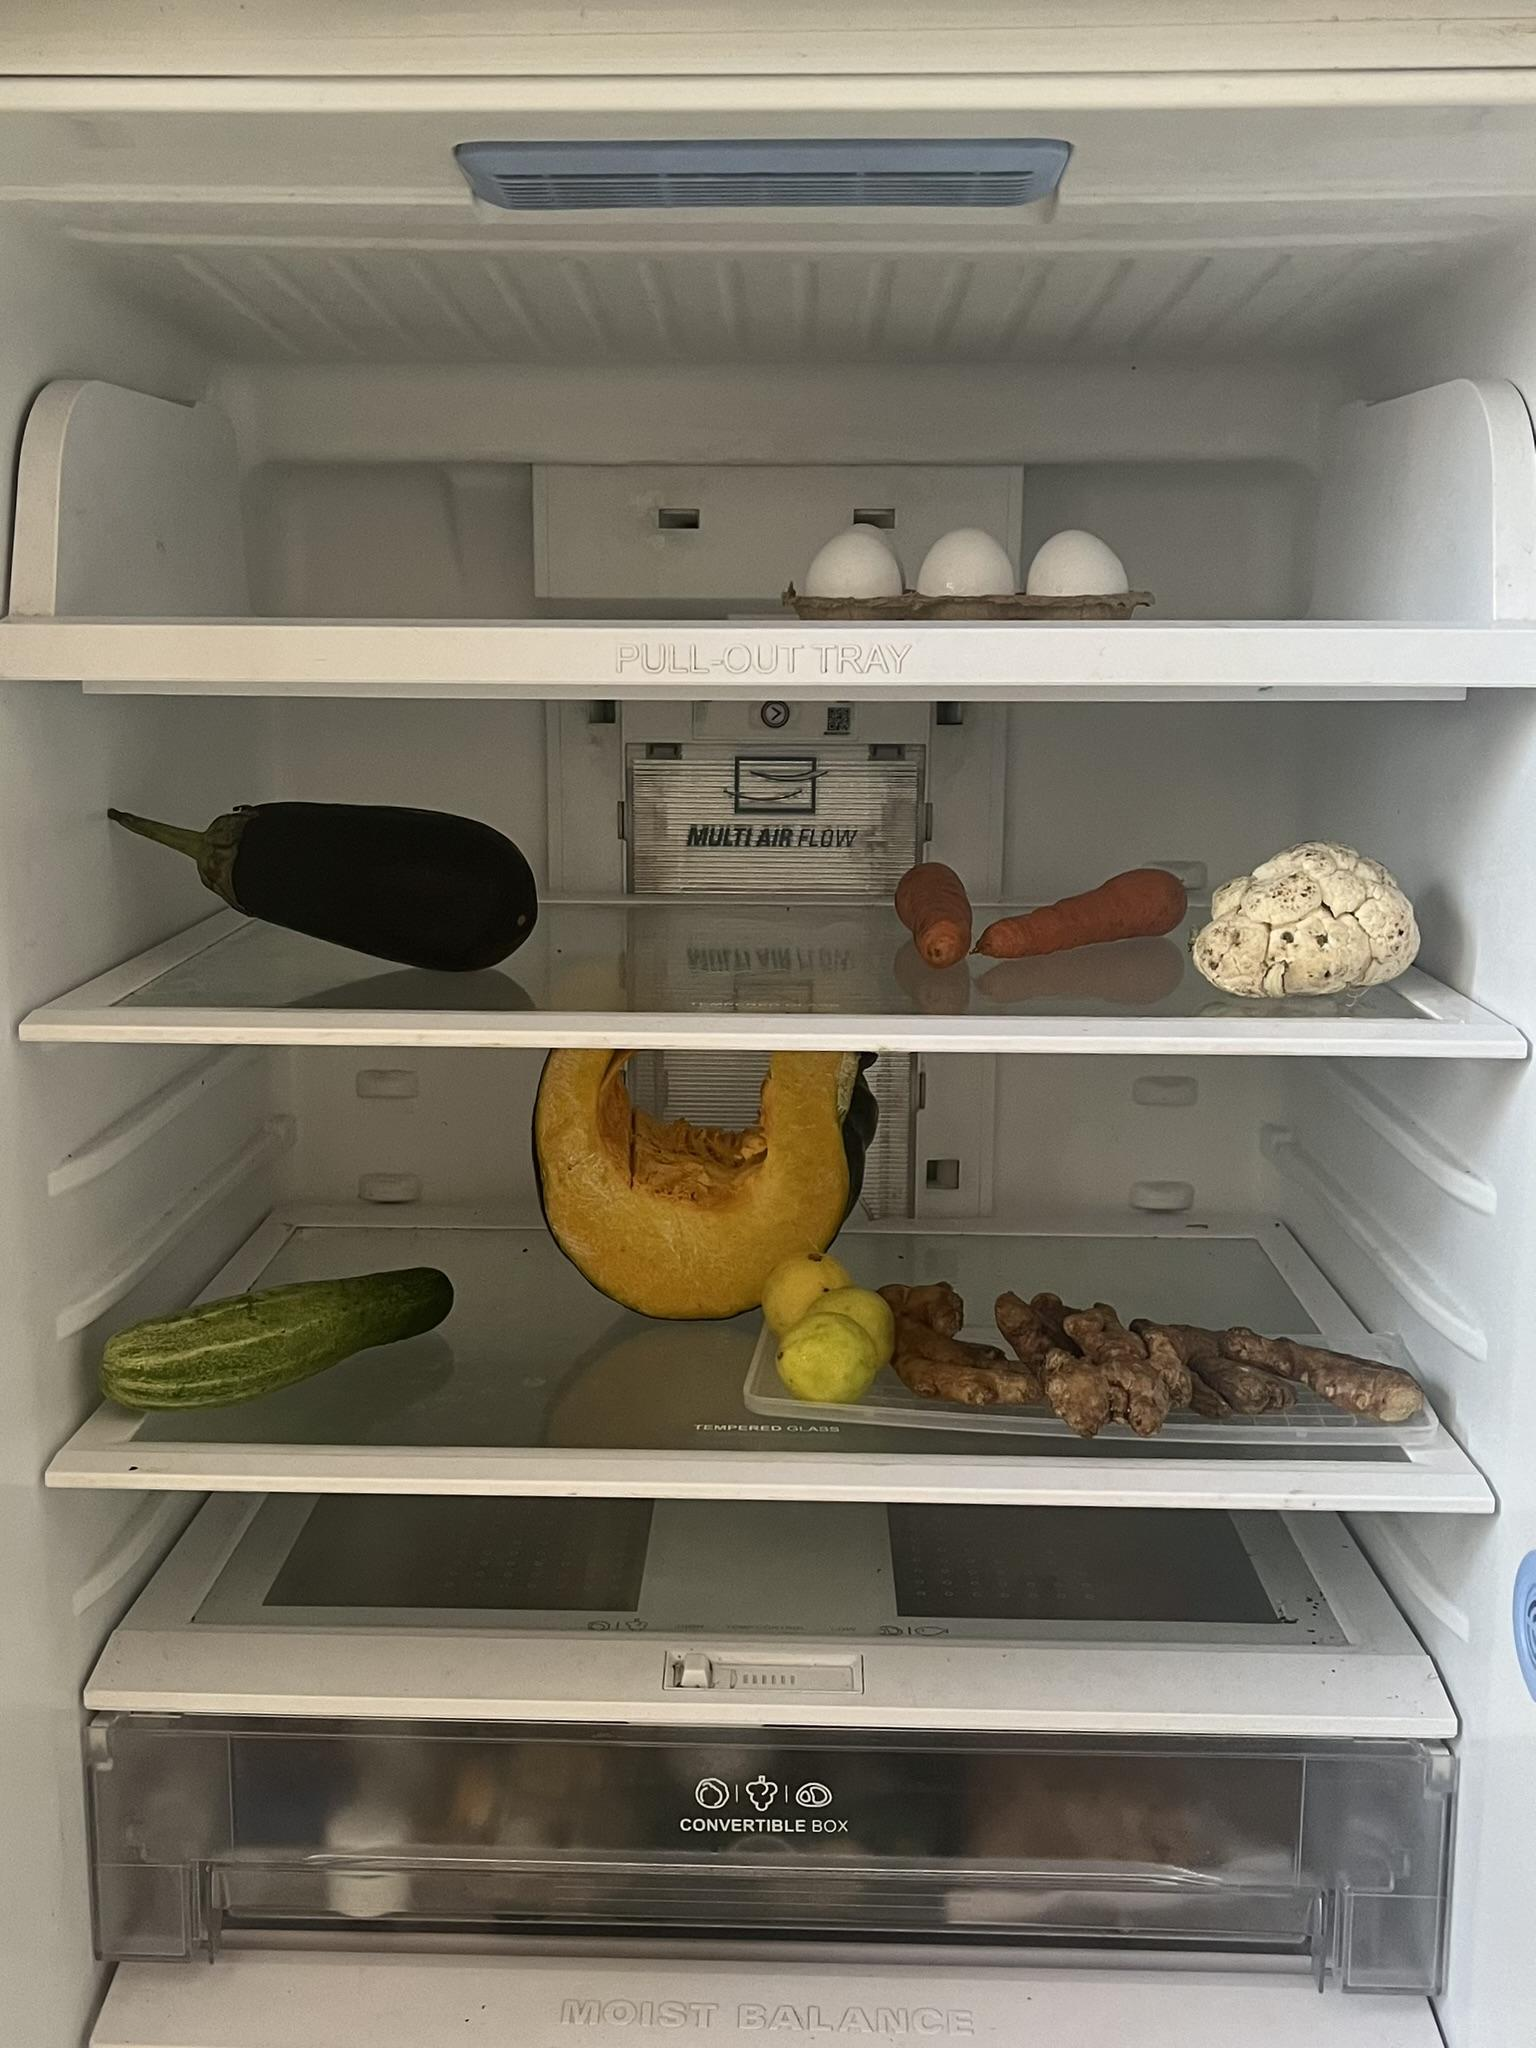bringal: (100, 784, 544, 971)
carrots: (983, 856, 1200, 950), (891, 853, 979, 966)
cauliflower: (1191, 830, 1436, 1000)
cucumber: (97, 1250, 460, 1413)
egg: (800, 513, 1160, 616)
ginger: (897, 1280, 1430, 1430)
lemon: (770, 1240, 897, 1403)
pumpkin: (526, 1043, 870, 1324)
